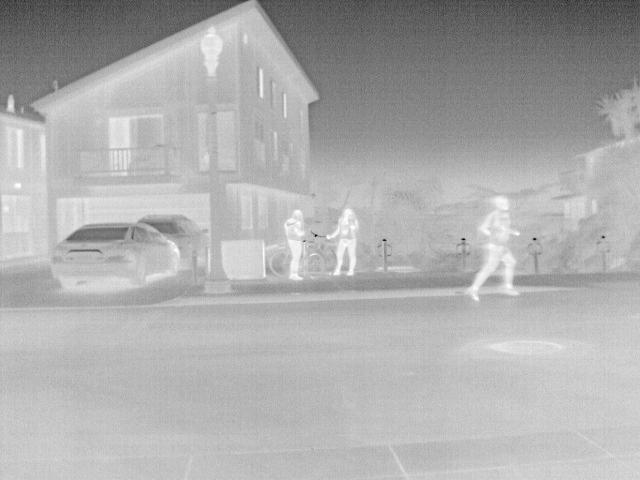car: (45, 223, 180, 294), (141, 211, 211, 273)
person: (465, 194, 522, 304), (322, 207, 357, 278), (283, 210, 306, 281)
